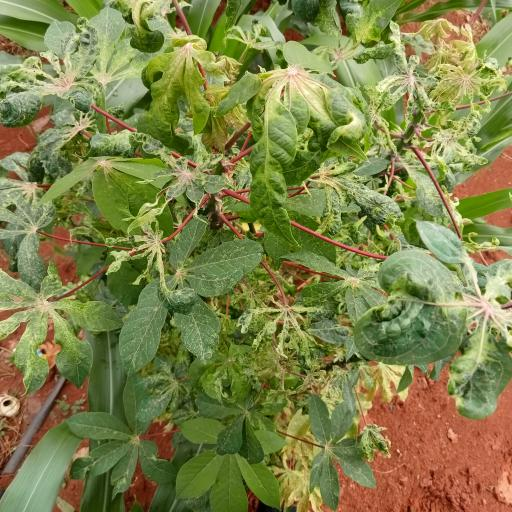Cassava_Mosaic: (362, 225, 512, 400), (218, 74, 347, 247), (122, 219, 256, 373), (0, 265, 116, 385), (0, 22, 91, 120), (146, 21, 226, 132)
